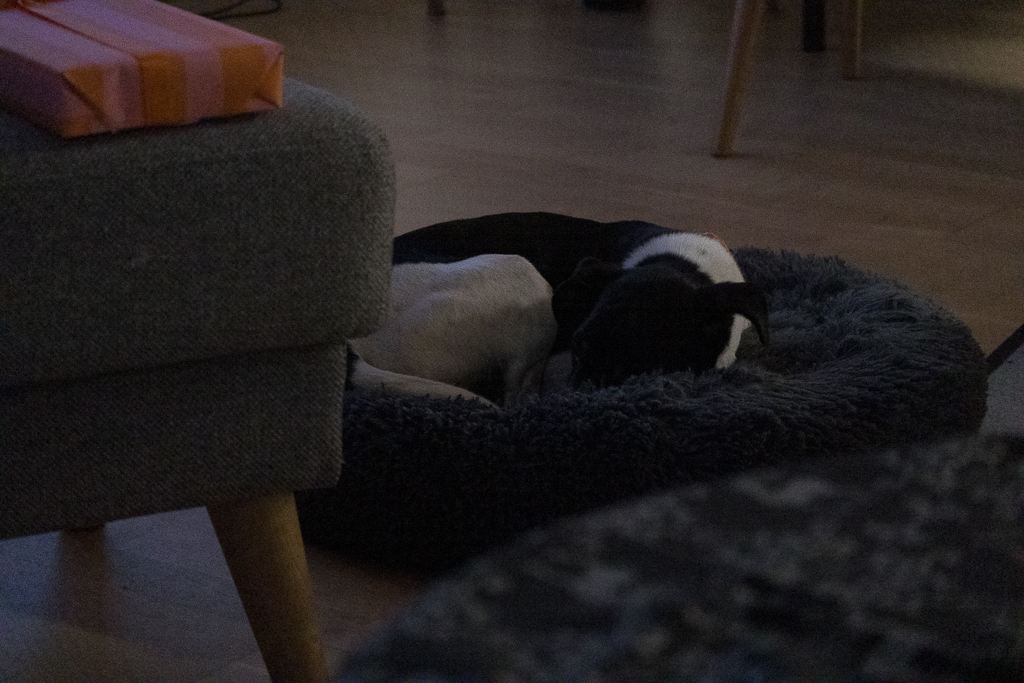Dog: (325, 197, 794, 426)
